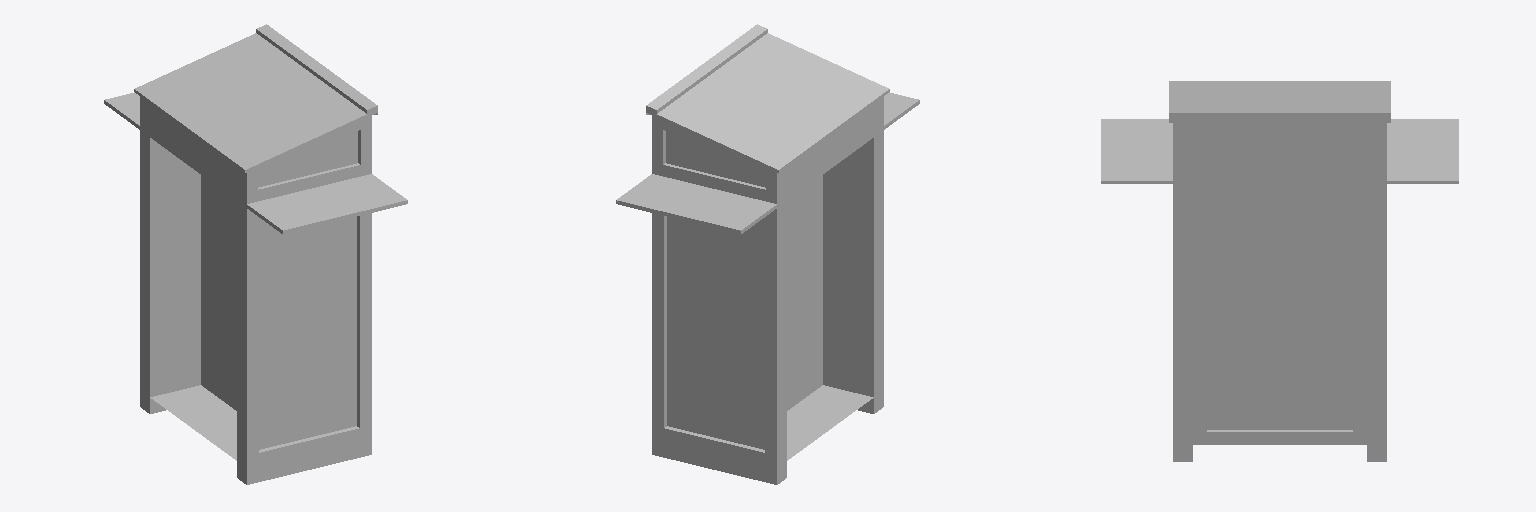
File: Podium.obj
The picture shows the model from 3 angles: view 1: azimuth 30°, elevation 25°; view 2: azimuth 150°, elevation 25°; view 3: azimuth 270°, elevation 25°; orthographic projection.
Parts seen in each view (by area): view 1: Podium; view 2: Podium; view 3: Podium.
Boxes of the visible parts, <box> form: Podium: <box>104,24,407,484</box>; Podium: <box>616,24,919,484</box>; Podium: <box>1101,81,1458,461</box>.
Size of the model in its own units: 28 by 70.68 by 65.44.